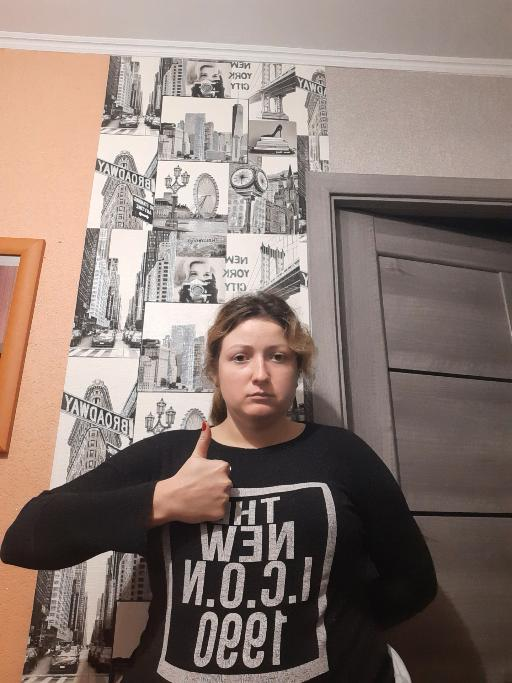like: (166, 418, 237, 528)
